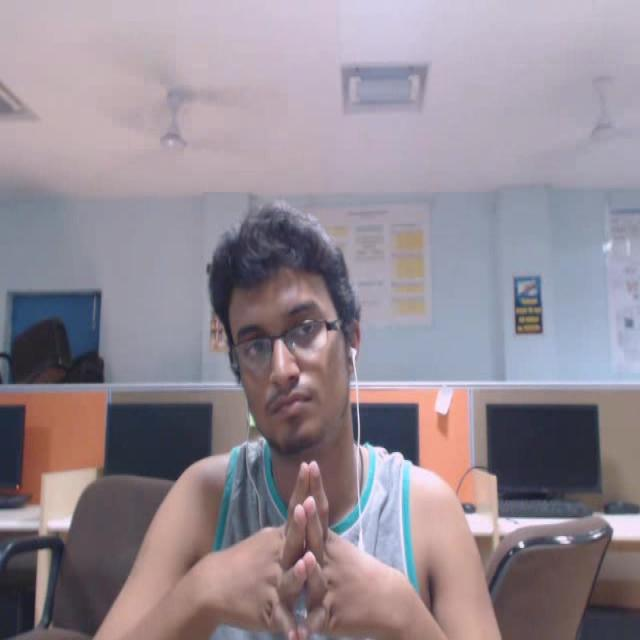Bored: (194, 187, 425, 479)
